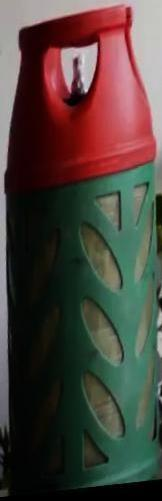cylinder: (1, 1, 162, 501)
